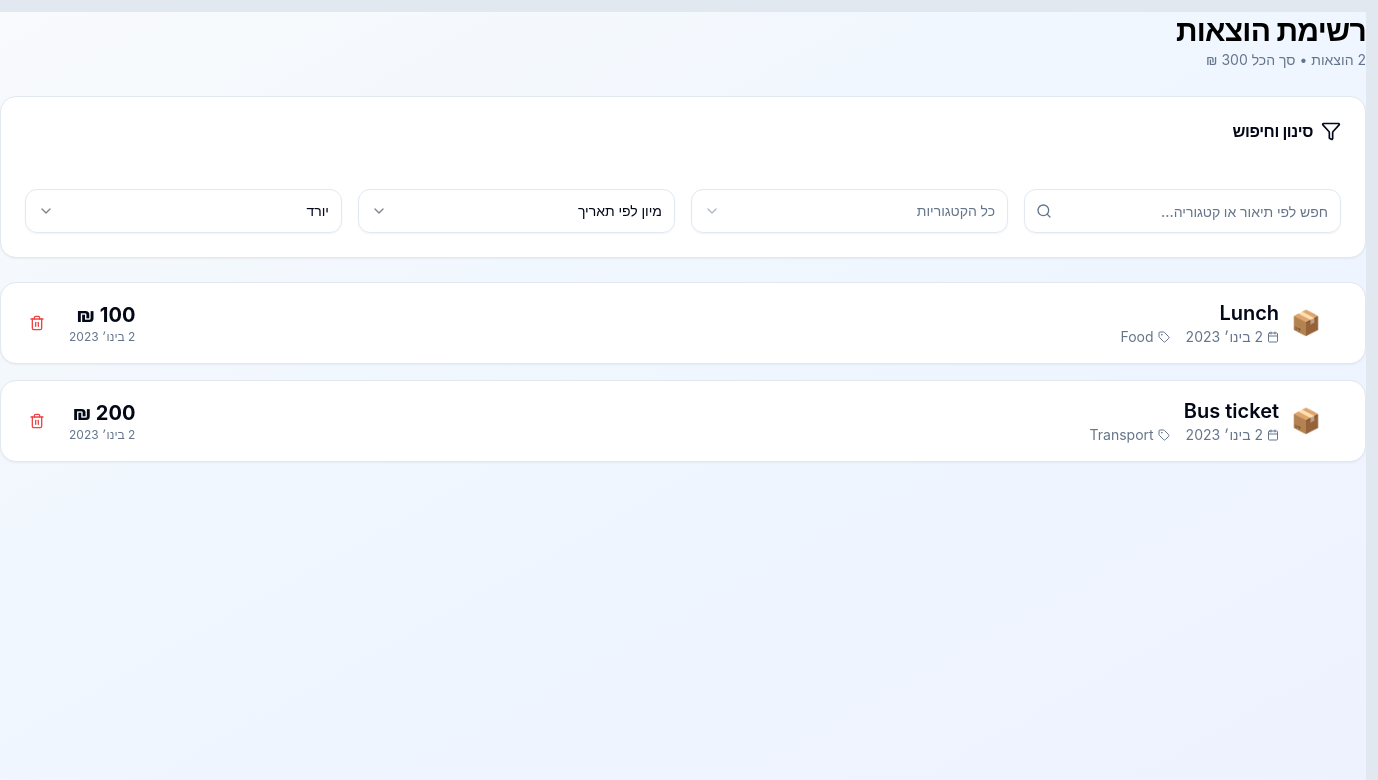
Test: ExpensesList › filters expenses when search term is entered
// Find and type in search input
Type "Lunch" into the field with placeholder "חפש לפי תיאור או קטגוריה..." at (1182, 211), box [1024,189,1341,233]
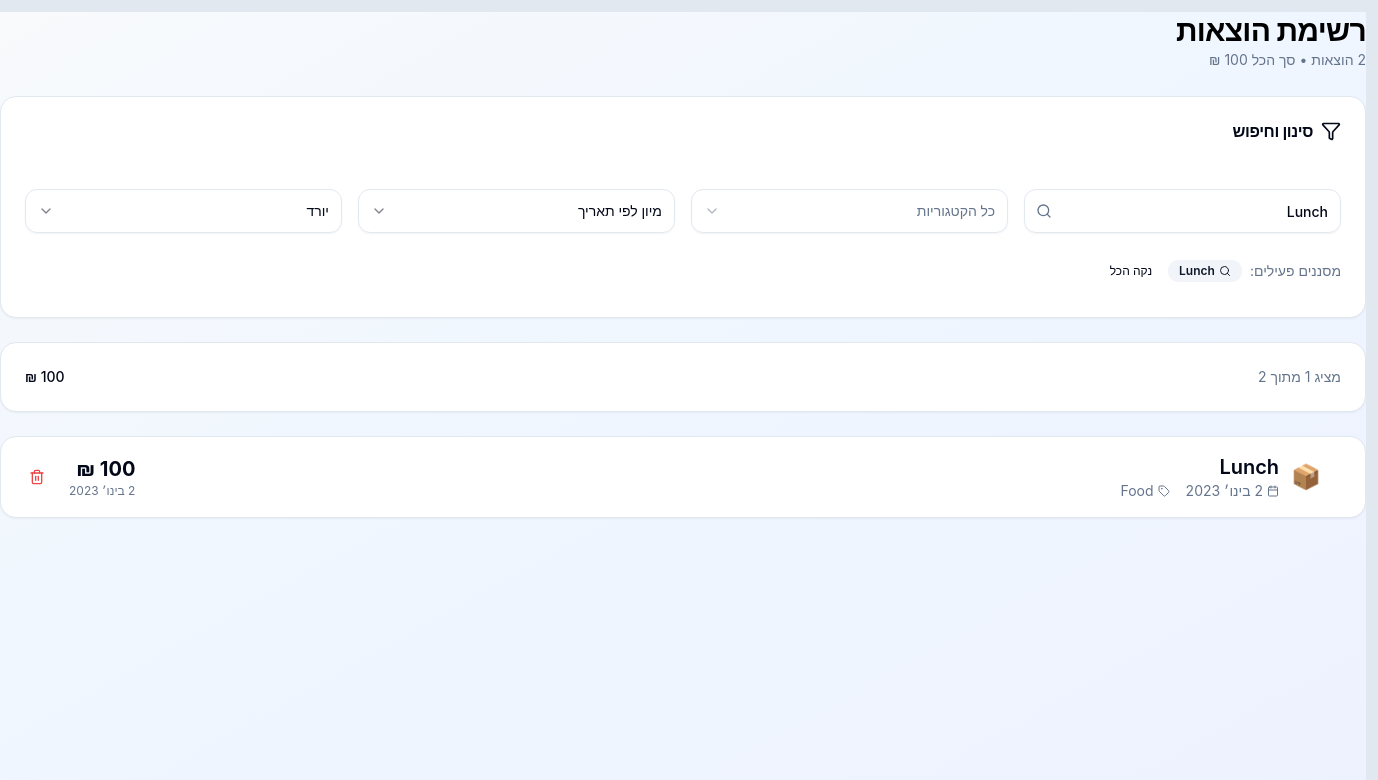
Expected: the text "Lunch" is shown, [1168,260,1242,282]
Expected: no headings "Bus ticket" are shown
